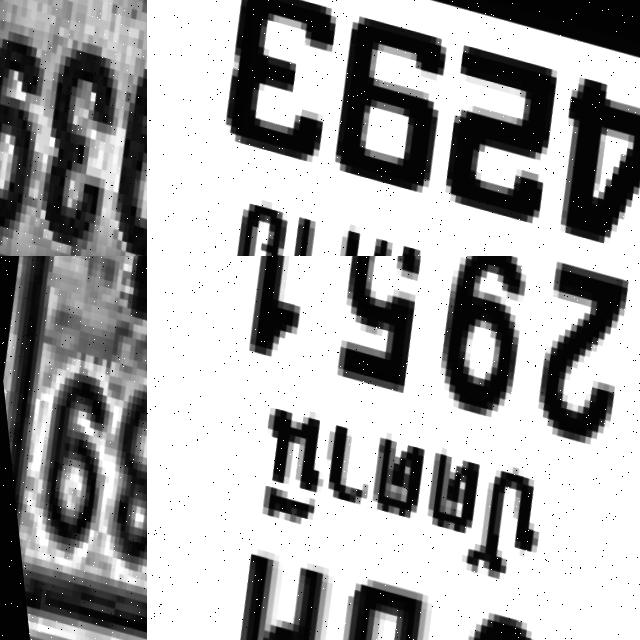license-plate: (147, 256, 640, 640), (147, 0, 640, 256), (0, 256, 147, 640), (0, 0, 147, 256)
